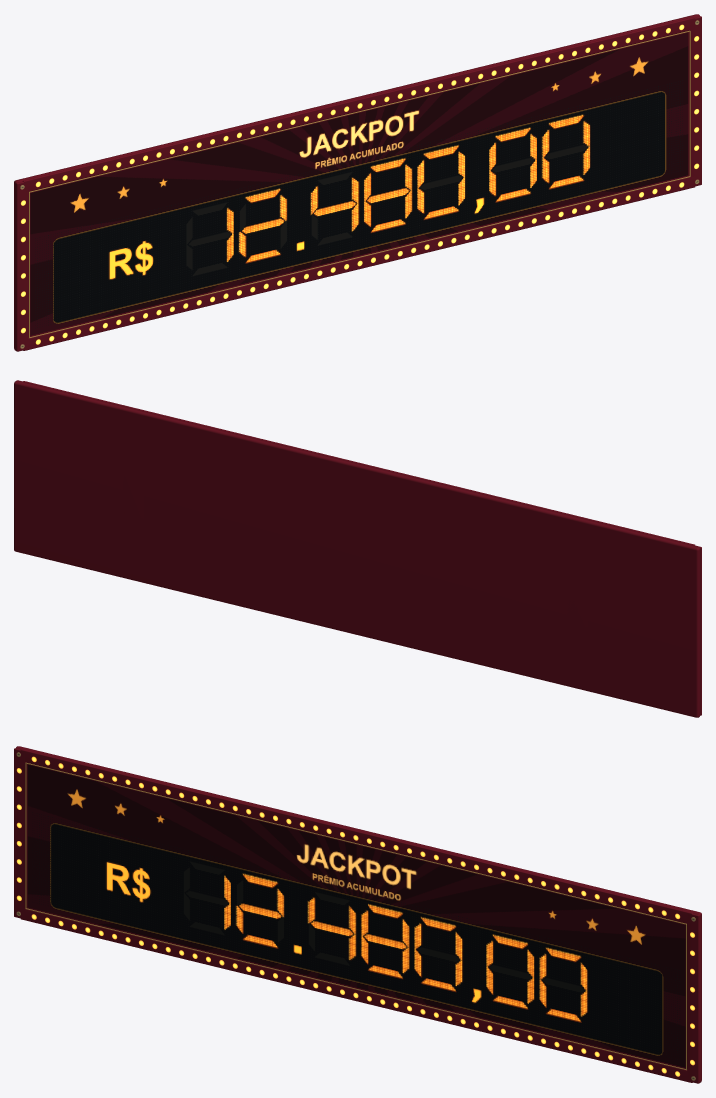
The model's file is placar_acumulado.glb.
3 views of the same model, one above another, from view 1: azimuth 30°, elevation 25°; view 2: azimuth 150°, elevation 25°; view 3: azimuth 330°, elevation 25° (orthographic).
Parts seen in each view (by area): view 1: Painel LED premio acumulado, Travessa do aro.001, Travessa do aro, Carcaca do placar, Moldura de lampadas acesas, Montante do aro, Montante do aro.001, Filete horizontal dourado.001, Filete horizontal dourado; view 2: Carcaca do placar, Travessa do aro.001, Apoio de fixacao.001, Apoio de fixacao; view 3: Painel LED premio acumulado, Travessa do aro.001, Travessa do aro, Carcaca do placar, Moldura de lampadas acesas, Montante do aro.001, Montante do aro, Filete horizontal dourado.001, Filete horizontal dourado.
Part boxes in pixels (x1,y1,x2,y2): Painel LED premio acumulado: (30, 32, 688, 335); Travessa do aro.001: (22, 17, 695, 191); Travessa do aro: (23, 176, 695, 350); Carcaca do placar: (14, 14, 699, 350); Moldura de lampadas acesas: (20, 24, 699, 344); Montante do aro: (16, 181, 28, 351); Montante do aro.001: (690, 16, 701, 186); Filete horizontal dourado.001: (29, 30, 689, 192); Filete horizontal dourado: (30, 176, 689, 337); Carcaca do placar: (14, 381, 700, 717); Travessa do aro.001: (23, 381, 695, 545); Apoio de fixacao.001: (123, 474, 143, 518); Apoio de fixacao: (567, 582, 587, 626); Painel LED premio acumulado: (27, 764, 685, 1067); Travessa do aro.001: (20, 749, 693, 923); Travessa do aro: (20, 908, 692, 1082); Carcaca do placar: (16, 746, 701, 1082); Moldura de lampadas acesas: (16, 756, 695, 1076); Montante do aro.001: (687, 913, 699, 1083); Montante do aro: (14, 748, 25, 918); Filete horizontal dourado.001: (26, 762, 686, 924); Filete horizontal dourado: (26, 908, 685, 1069).
Bounding box in the file's own units: 2.63 × 0.623 × 0.0294.
6 materials, 2 textured.
